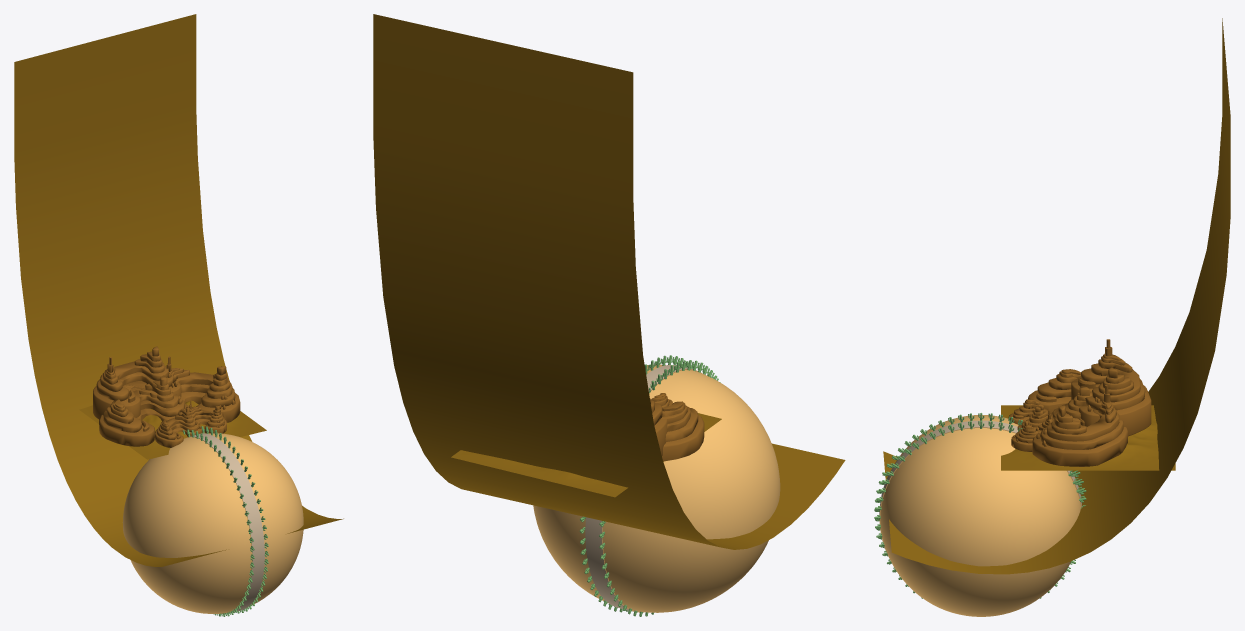
File: desert01.fbx
The picture shows the model from 3 angles, left to right: view 1: azimuth 30°, elevation 25°; view 2: azimuth 150°, elevation 25°; view 3: azimuth 270°, elevation 25°; orthographic projection. The views are drawn at different scales.
Parts seen in each view (by area): view 1: Extrude_6_6, Sphere_1, Landscape, Extrude_4_6, Extrude_5_6, Extrude_1_5, Extrude_2_2, Extrude_1_2, Extrude_2_4, Extrude_2_3, Extrude_1_3, Extrude_2_6; view 2: Extrude_6_6, Sphere_1, Landscape, Extrude_4_6; view 3: Sphere_1, Extrude_6_6, Landscape, Extrude_2_4, Extrude_5_6, Extrude_2_3, Extrude_1_3, Extrude_1_2, Extrude_2_2.
Part boxes in pixels (x1,y1,x2,y2): Extrude_6_6: (14,14,343,566); Sphere_1: (122,433,303,613); Landscape: (79,400,266,459); Extrude_4_6: (99,403,189,446); Extrude_5_6: (93,381,181,419); Extrude_1_5: (103,398,184,432); Extrude_2_2: (100,361,168,391); Extrude_1_2: (96,372,174,401); Extrude_2_4: (180,391,240,422); Extrude_2_3: (173,372,232,398); Extrude_1_3: (181,384,235,407); Extrude_2_6: (107,390,178,423); Extrude_6_6: (373,14,845,549); Sphere_1: (533,364,780,612); Landscape: (451,413,721,497); Extrude_4_6: (662,414,704,461); Sphere_1: (879,415,1081,616); Extrude_6_6: (883,18,1230,574); Landscape: (1001,405,1175,470); Extrude_2_4: (1032,425,1127,466); Extrude_5_6: (1071,378,1151,436); Extrude_2_3: (1046,409,1119,441); Extrude_1_3: (1040,420,1123,449); Extrude_1_2: (1081,368,1145,410); Extrude_2_2: (1091,363,1140,402).
Bounding box in the file's own units: 385 × 955 × 564.
